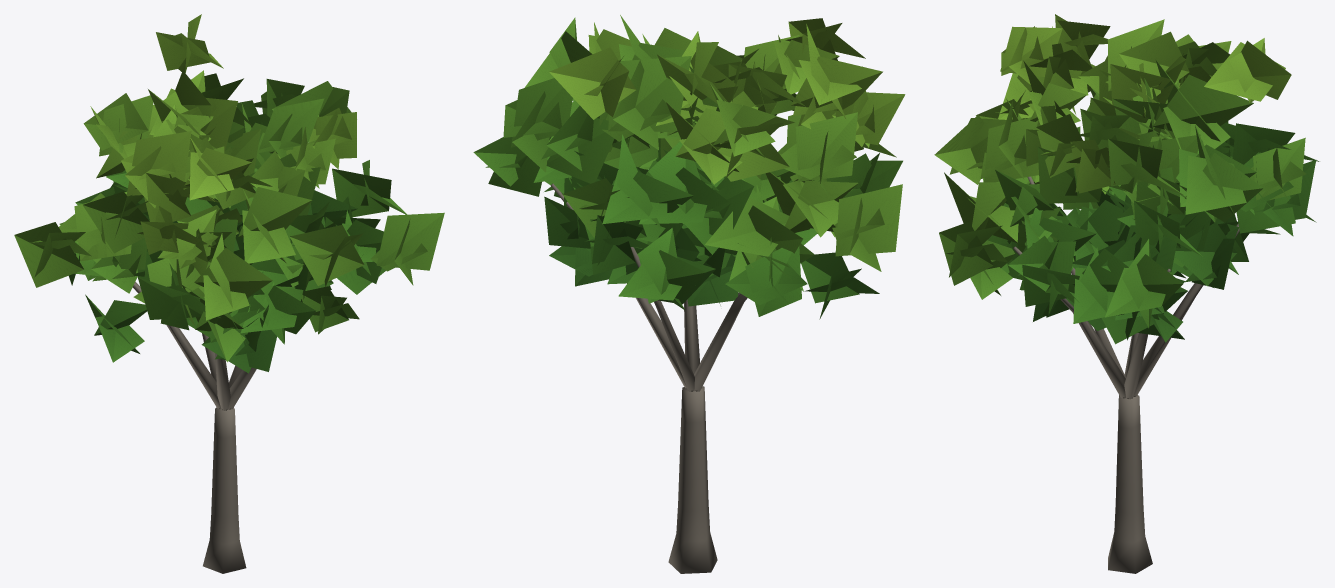
Rendered from tree_keyaki_lo.glb.
The picture shows the model from 3 angles, left to right: view 1: azimuth 30°, elevation 25°; view 2: azimuth 150°, elevation 25°; view 3: azimuth 270°, elevation 25°; orthographic projection. The views are drawn at different scales.
Visible parts, largest first — view 1: tree_keyaki_lo; view 2: tree_keyaki_lo; view 3: tree_keyaki_lo.
Part boxes in pixels (x1=…): tree_keyaki_lo: x1=14, y1=14, x2=444, y2=573; tree_keyaki_lo: x1=473, y1=15, x2=905, y2=573; tree_keyaki_lo: x1=934, y1=14, x2=1319, y2=573.
Size of the model in its own units: 8.63 by 11.42 by 7.5.
